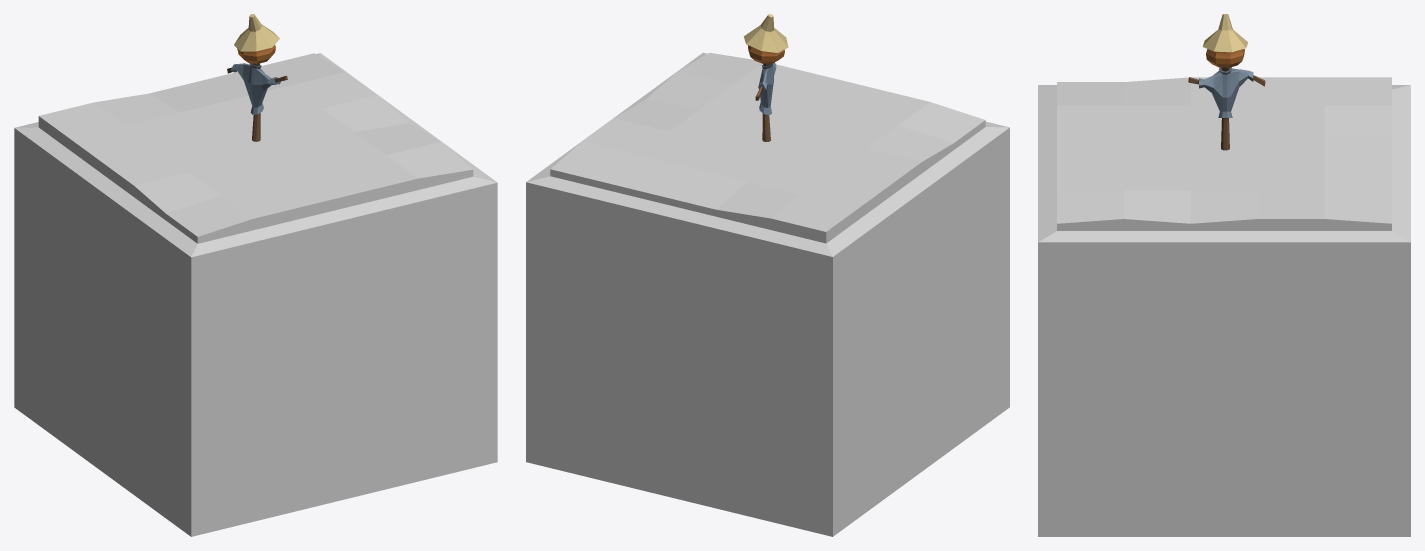
The model's file is tile_spawner_pumpkinpatch.fbx.
3 renders of one model, left to right at view 1: azimuth 30°, elevation 25°; view 2: azimuth 150°, elevation 25°; view 3: azimuth 270°, elevation 25°, orthographic. The views are drawn at different scales.
Visible parts, largest first — view 1: Tile, Ground, Scarecrow_Bones; view 2: Tile, Ground, Scarecrow_Bones; view 3: Tile, Ground, Scarecrow_Bones.
Part boxes in pixels (x1,y1,x2,y2): Tile: (14, 53, 497, 536); Ground: (38, 53, 473, 243); Scarecrow_Bones: (227, 14, 287, 141); Tile: (526, 52, 1009, 536); Ground: (550, 52, 985, 243); Scarecrow_Bones: (743, 14, 788, 141); Tile: (1038, 85, 1410, 536); Ground: (1057, 77, 1391, 230); Scarecrow_Bones: (1188, 14, 1265, 150).
Size of the model in its own units: 0.04 by 0.0524 by 0.04.
